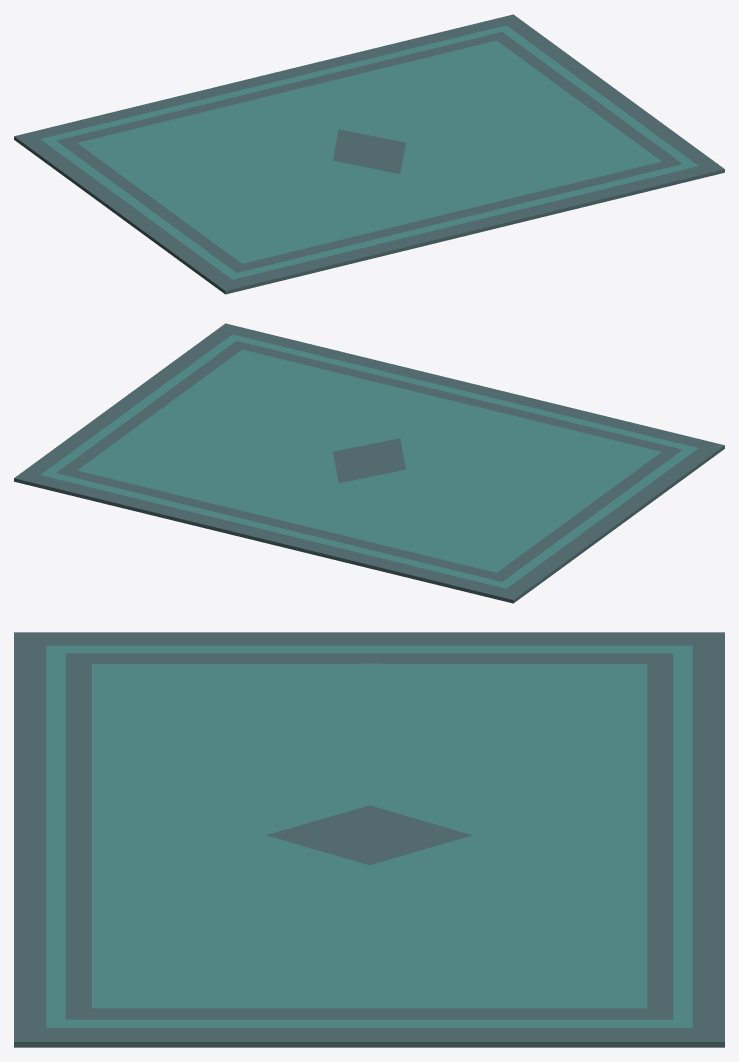
File: KC32__AD_Int_Rug_Deco.glb
3 views of the same model, one above another, from view 1: azimuth 30°, elevation 25°; view 2: azimuth 150°, elevation 25°; view 3: azimuth 270°, elevation 25° (orthographic). The views are drawn at different scales.
Parts seen in each view (by area): view 1: KC32_CORPS__AD_Int_Rug_Deco; view 2: KC32_CORPS__AD_Int_Rug_Deco; view 3: KC32_CORPS__AD_Int_Rug_Deco.
Part boxes in pixels (left/top/right/bottom): KC32_CORPS__AD_Int_Rug_Deco: left=14, top=14, right=724, bottom=294; KC32_CORPS__AD_Int_Rug_Deco: left=14, top=323, right=724, bottom=603; KC32_CORPS__AD_Int_Rug_Deco: left=14, top=632, right=724, bottom=1047.
Bounding box in the file's own units: 3 × 0.026 × 2.2.
